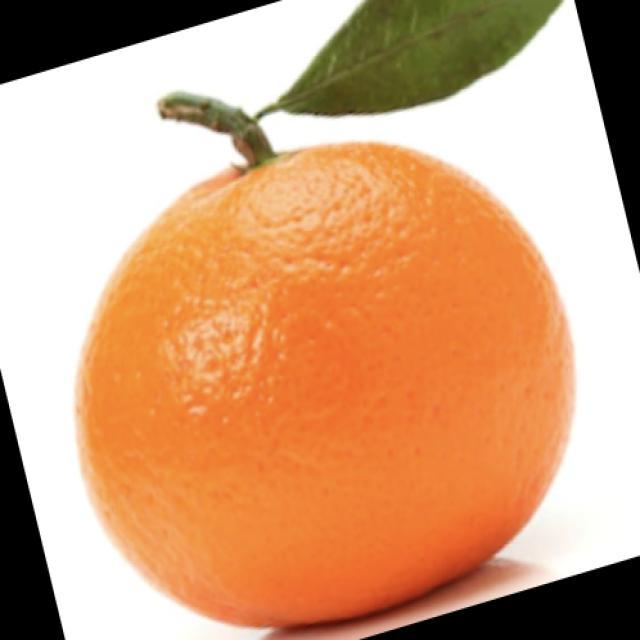Orange: (73, 138, 576, 630)
